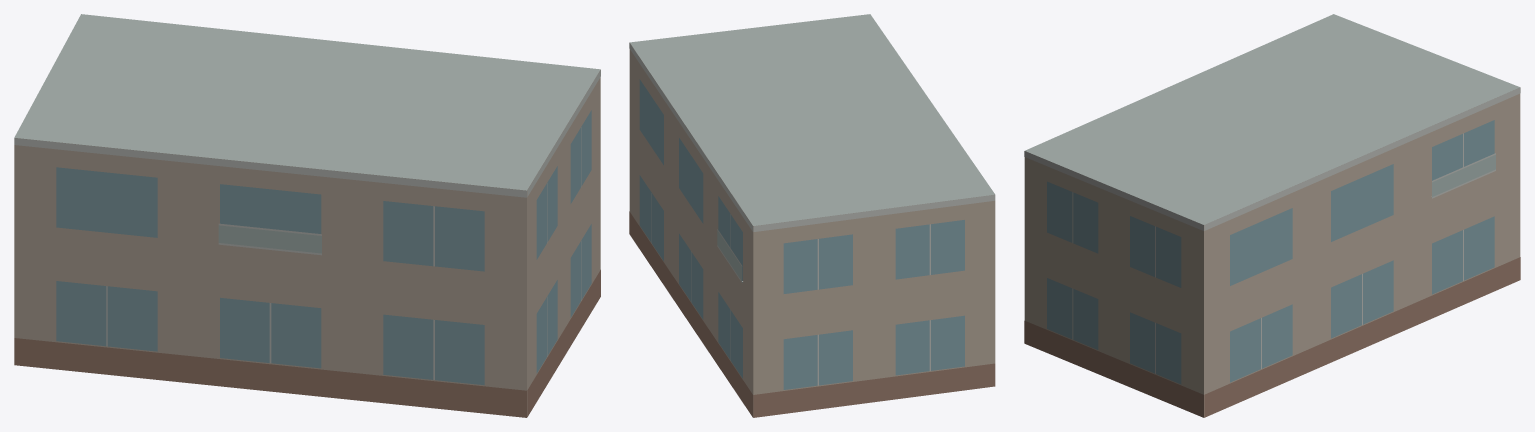
Rendered from survey-upis-32769050.glb.
The picture shows the model from 3 angles, left to right: view 1: azimuth 30°, elevation 25°; view 2: azimuth 150°, elevation 25°; view 3: azimuth 270°, elevation 25°; orthographic projection. The views are drawn at different scales.
Visible parts, largest first — view 1: survey-upis-32769050.tmp; view 2: survey-upis-32769050.tmp; view 3: survey-upis-32769050.tmp.
Part boxes in pixels (x1,y1,x2,y2): survey-upis-32769050.tmp: (14, 14, 600, 417); survey-upis-32769050.tmp: (629, 14, 995, 417); survey-upis-32769050.tmp: (1024, 14, 1520, 417).
Size of the model in its own units: 18.09 by 7.7 by 17.96.
